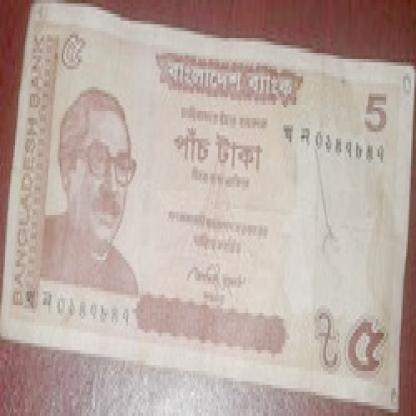Five Taka: (172, 122, 266, 180), (343, 305, 386, 385), (60, 24, 85, 90), (362, 83, 388, 139)
